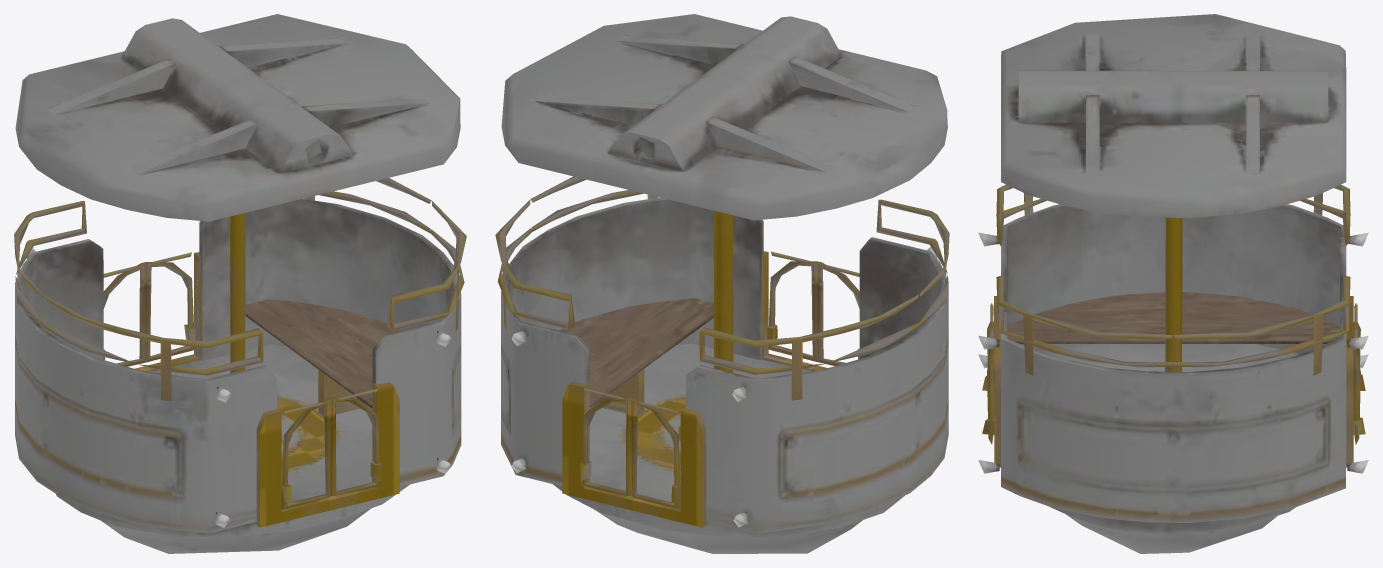
The model's file is cabin.glb.
3 renders of one model, left to right at view 1: azimuth 30°, elevation 25°; view 2: azimuth 150°, elevation 25°; view 3: azimuth 270°, elevation 25°, orthographic. The views are drawn at different scales.
Visible parts, largest first — view 1: cabin; view 2: cabin; view 3: cabin.
Part boxes in pixels (x1,y1,x2,y2): cabin: (14, 14, 466, 553); cabin: (495, 14, 949, 553); cabin: (978, 14, 1368, 553).
Bounding box in the file's own units: 3.28 × 3.51 × 2.88.
1 material, 1 textured.
